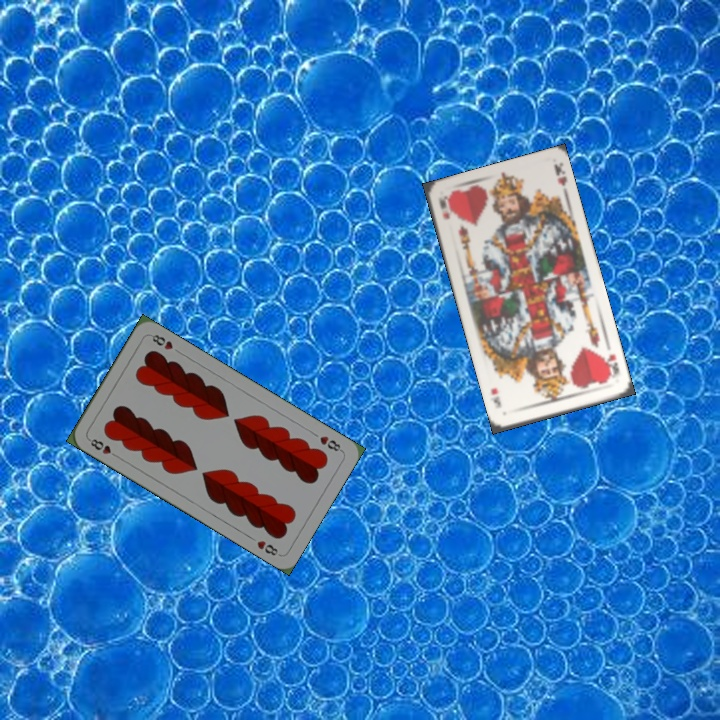H8: (84, 434, 121, 460), (316, 432, 345, 454)
HK: (600, 349, 622, 382), (435, 192, 453, 222)
